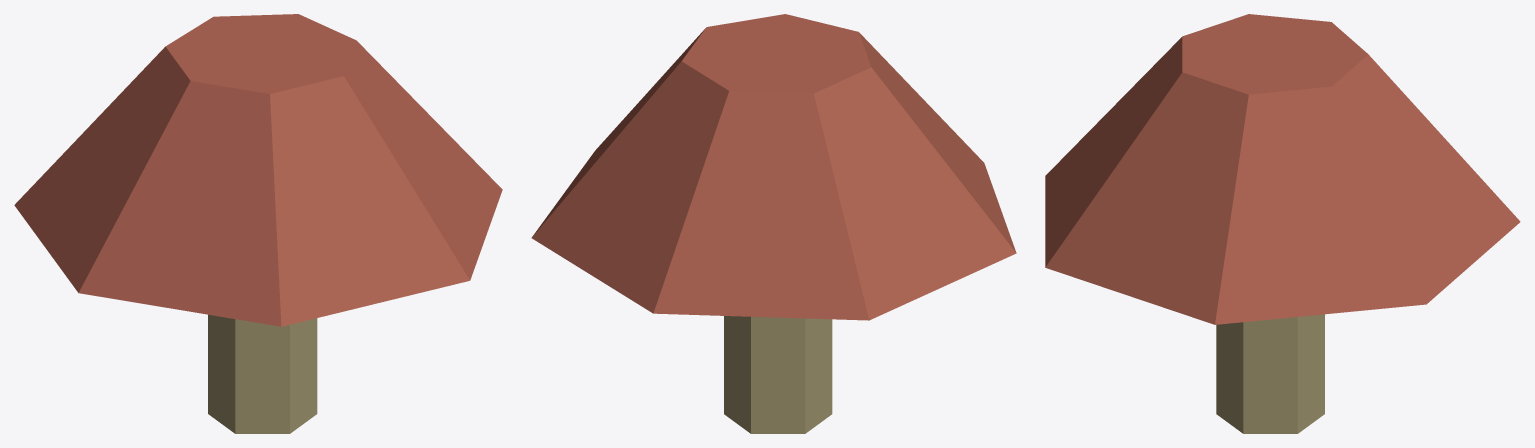
Rendered from mushroom_a.glb.
3 renders of one model, left to right at view 1: azimuth 30°, elevation 25°; view 2: azimuth 150°, elevation 25°; view 3: azimuth 270°, elevation 25°, orthographic.
Parts seen in each view (by area): view 1: mushroom_a; view 2: mushroom_a; view 3: mushroom_a.
Boxes of the visible parts, x1=… form: mushroom_a: x1=14, y1=14, x2=502, y2=433; mushroom_a: x1=531, y1=14, x2=1016, y2=433; mushroom_a: x1=1045, y1=14, x2=1520, y2=433.
Bounding box in the file's own units: 0.4485 × 0.365 × 0.4372.
